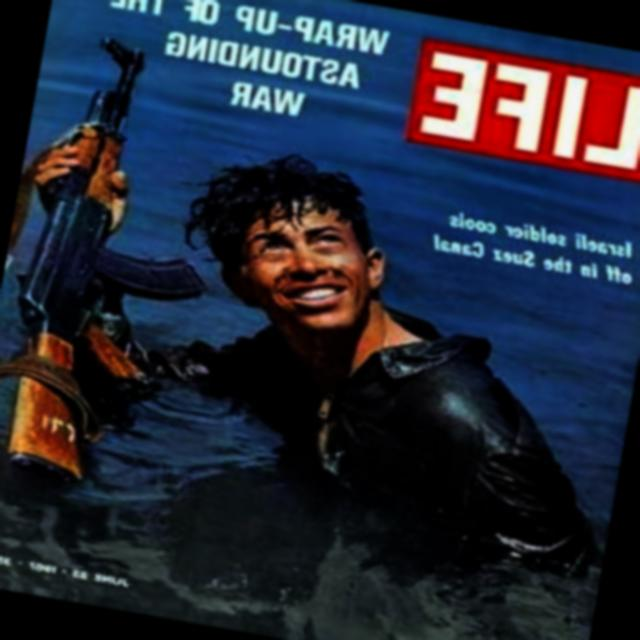ak: (0, 20, 249, 506)
